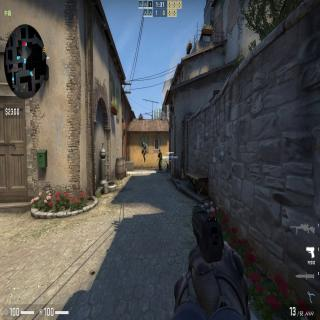T-Body: (142, 141, 146, 163)
T-Head: (142, 141, 144, 144), (158, 150, 160, 153)
